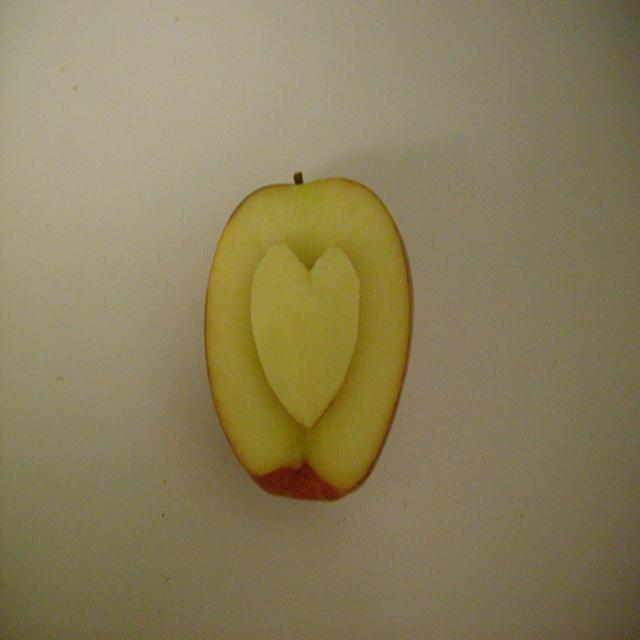Apple pie: (215, 187, 402, 525)
